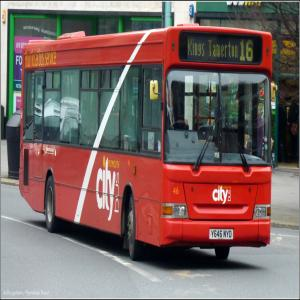Vehicle-registration-plate: (210, 231, 234, 239)
